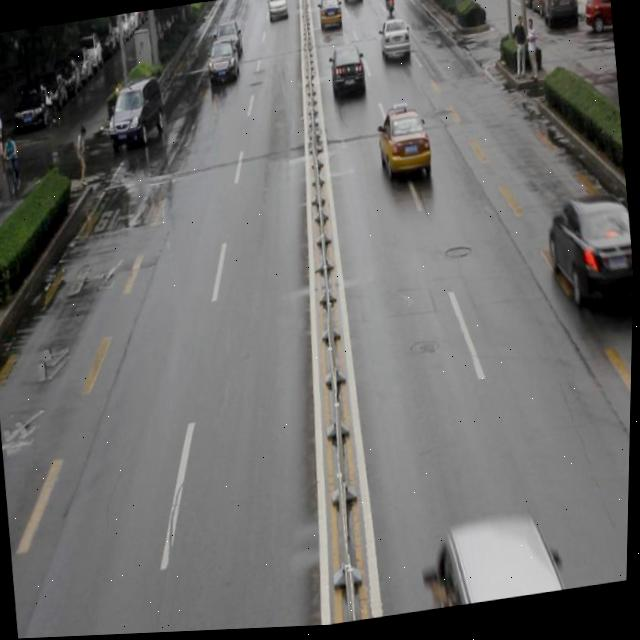car: (541, 193, 636, 323), (373, 104, 432, 187), (326, 45, 366, 105)
truck: (424, 512, 570, 614), (104, 77, 167, 148)
